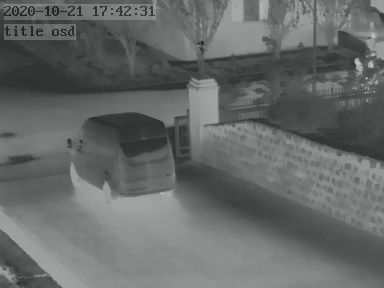vehicle: (69, 111, 173, 199)
